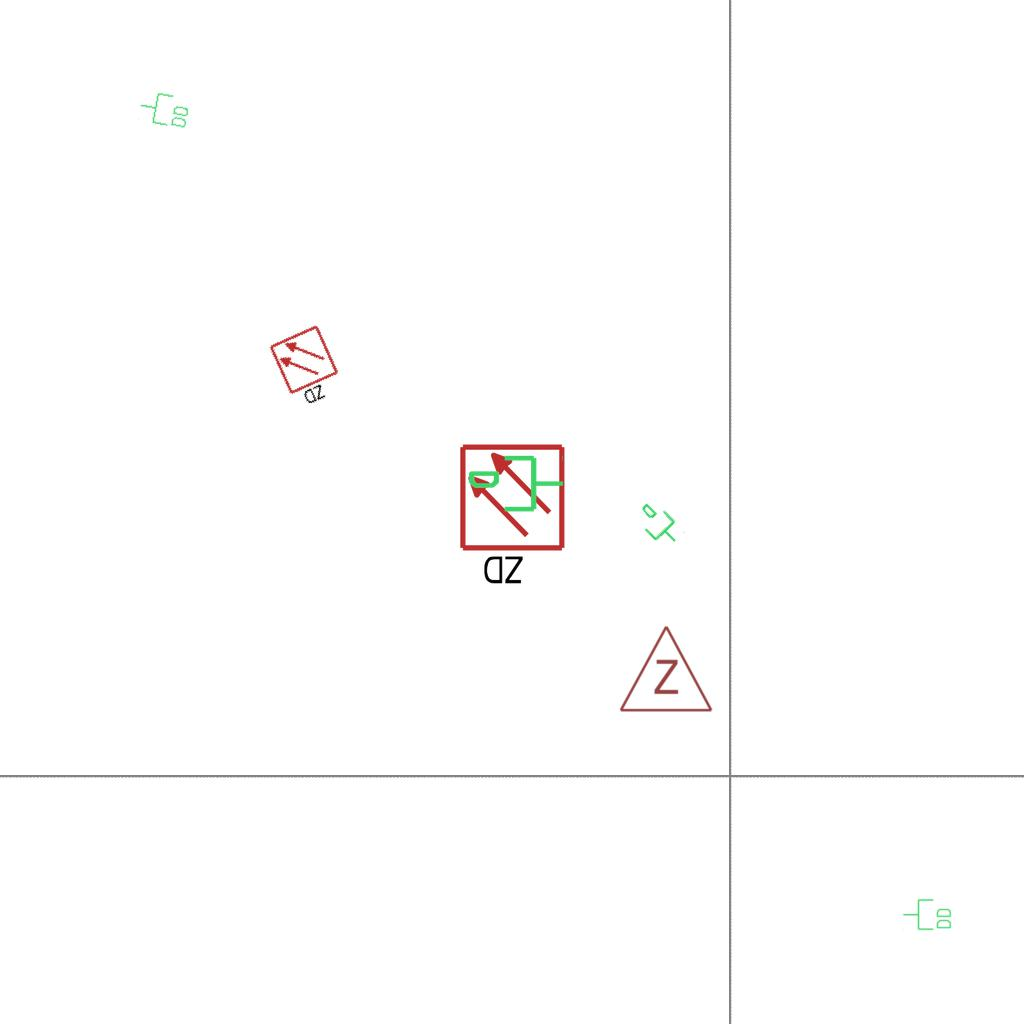Datenanschluss_einfach: (466, 451, 566, 520), (628, 495, 688, 555)
Datenanschluss_zweifach: (136, 88, 193, 132), (902, 898, 953, 932)
ZD_Melder_in_Zwischendecke_mit_Revisionsoeffnung_mind_40_x_40_cm: (457, 442, 571, 591), (267, 322, 350, 414)
Zimmersignalleuchte: (616, 619, 714, 719)
